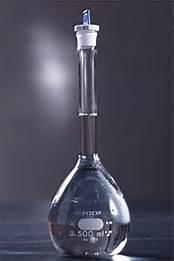Volumetric flask: (47, 17, 137, 255)
